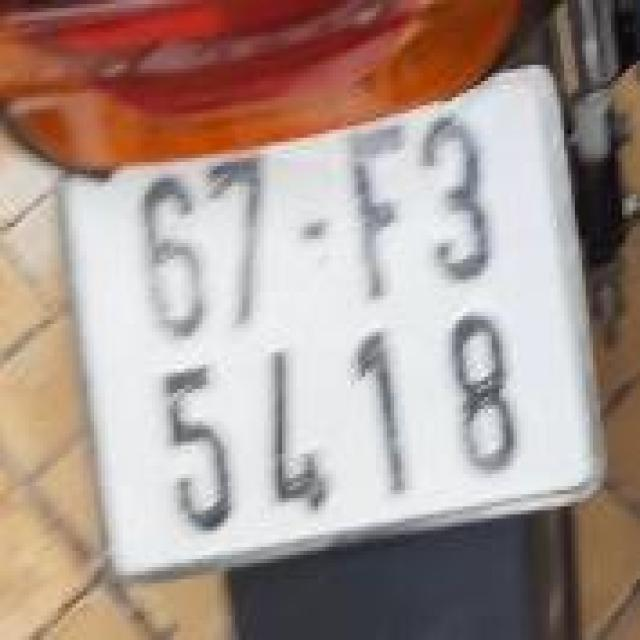1: (337, 311, 453, 521)
3: (407, 98, 522, 298)
4: (248, 335, 353, 525)
5: (141, 347, 254, 554)
6: (120, 165, 223, 354)
7: (189, 141, 291, 345)
8: (430, 298, 544, 490)
F: (328, 110, 430, 318)
